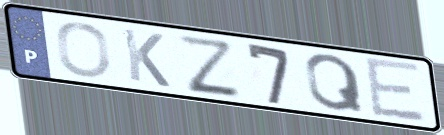7: (245, 40, 292, 107)
E: (361, 54, 429, 124)
K: (119, 26, 173, 90)
O: (55, 20, 114, 79)
Q: (302, 52, 368, 115)
Z: (174, 32, 244, 98)
